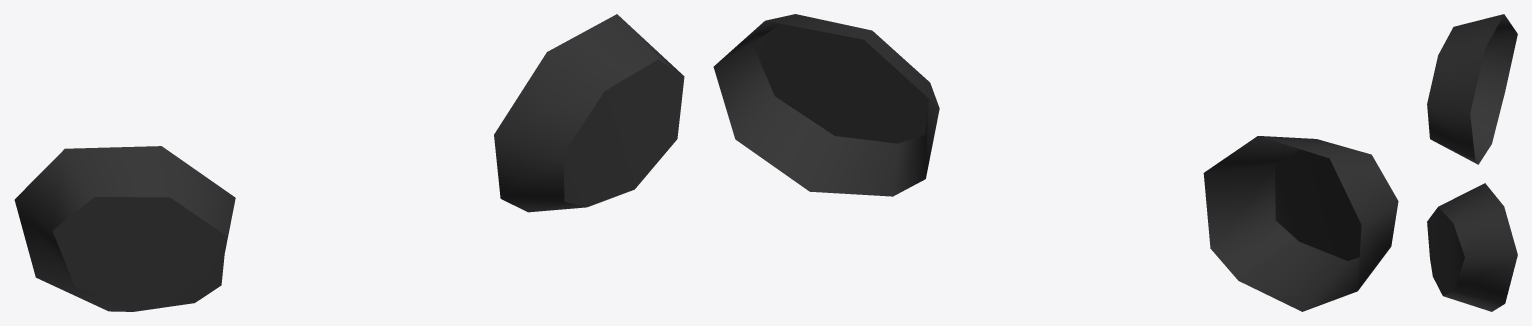
File: Eyebrow_18.fbx
3 renders of one model, left to right at view 1: azimuth 30°, elevation 25°; view 2: azimuth 150°, elevation 25°; view 3: azimuth 270°, elevation 25°, orthographic. The views are drawn at different scales.
Parts seen in each view (by area): view 1: Eyebrow_18; view 2: Eyebrow_18; view 3: Eyebrow_18.
Part boxes in pixels (bbox=[...]): Eyebrow_18: bbox=[14, 14, 684, 311]; Eyebrow_18: bbox=[713, 14, 1398, 311]; Eyebrow_18: bbox=[1427, 14, 1517, 311].
Size of the model in its own units: 22.19 by 5.52 by 3.86.
